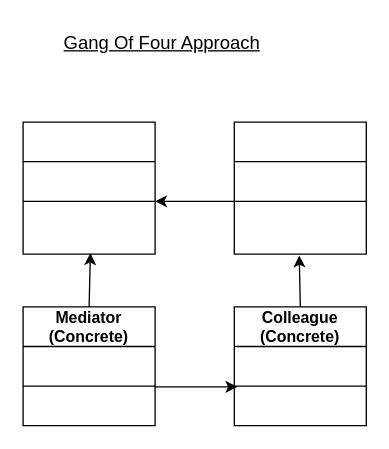
This 389x449 diagram has some shape labels left out. Each missing label, with the centre of its shape:
"Colleague (Abstract Class)" goes at point 299,187.
"Mediator (Abstract Class)" goes at point 88,187.
